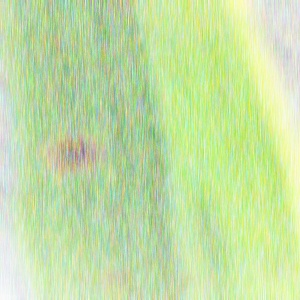Bacterial_Leaf_Blight: (34, 123, 115, 184)
